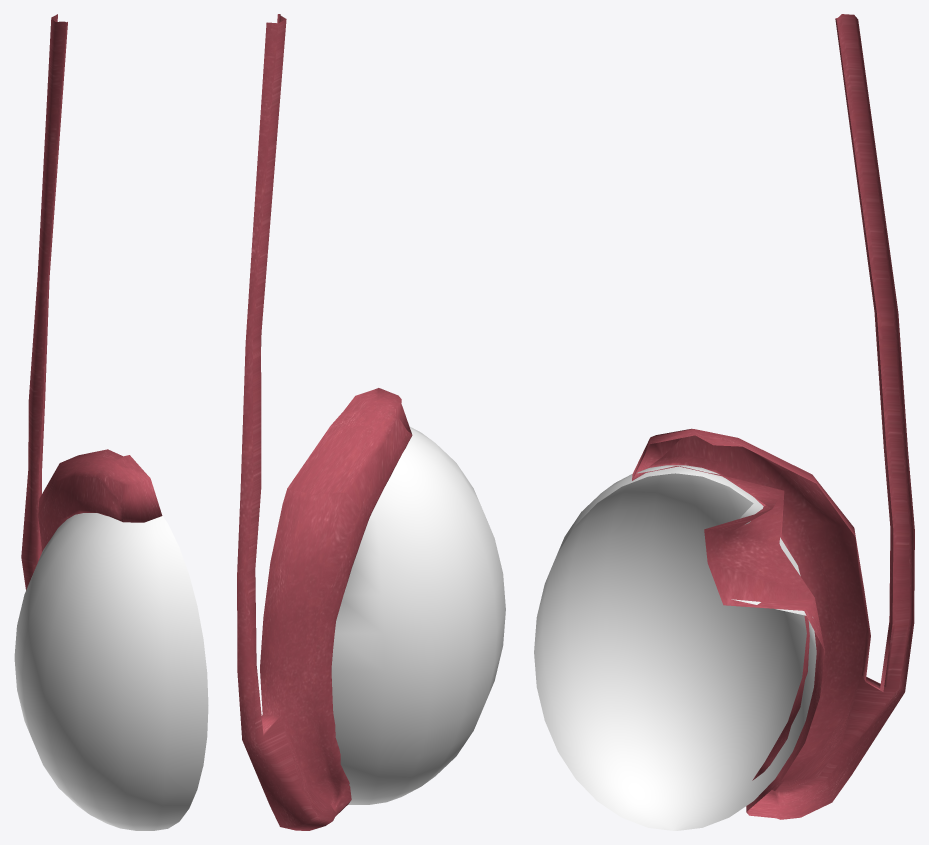
Rendered from Testis Sliced + Epididirmis.glb.
The picture shows the model from 3 angles, left to right: view 1: azimuth 30°, elevation 25°; view 2: azimuth 150°, elevation 25°; view 3: azimuth 270°, elevation 25°; orthographic projection. The views are drawn at different scales.
Visible parts, largest first — view 1: Testis_sliced, Epididirmis.002; view 2: Epididirmis.002, Testis_sliced; view 3: Testis_sliced, Epididirmis.002.
Boxes of the visible parts, box(x1,y1,x2,y2) form: Testis_sliced: box(14, 513, 208, 830); Epididirmis.002: box(21, 14, 162, 589); Epididirmis.002: box(237, 14, 412, 830); Testis_sliced: box(331, 426, 505, 804); Testis_sliced: box(534, 465, 816, 830); Epididirmis.002: box(632, 14, 914, 819).
Size of the model in its own units: 0.7304 by 4.35 by 1.85.
Materials: 2 (1 with a texture image).
